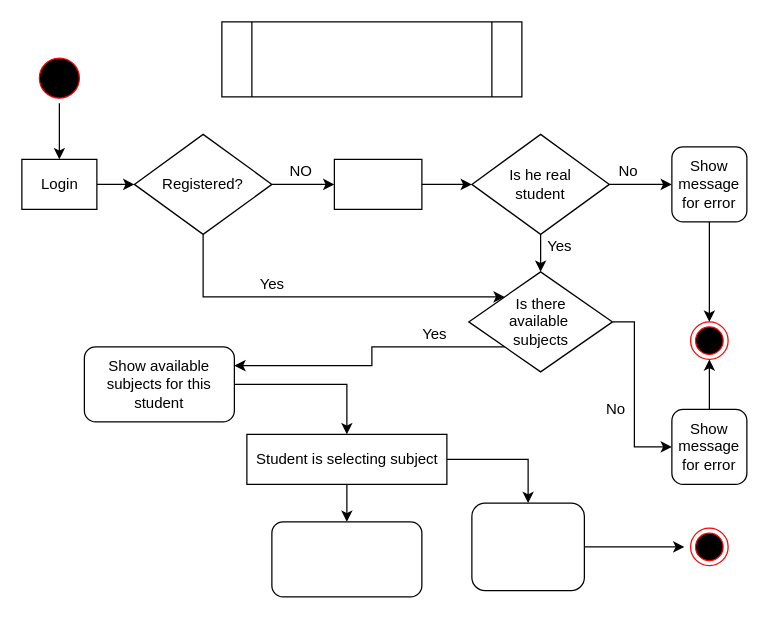
This 769x619 diagram has some shape labels left out. Here are the shapes that lost their labels. From the top down, the box of each, then its label:
(221, 21, 522, 97): Student applying for subject
(333, 158, 422, 209): Register as student
(271, 521, 422, 597): Persist changes in database
(471, 502, 584, 591): Show message for completion
